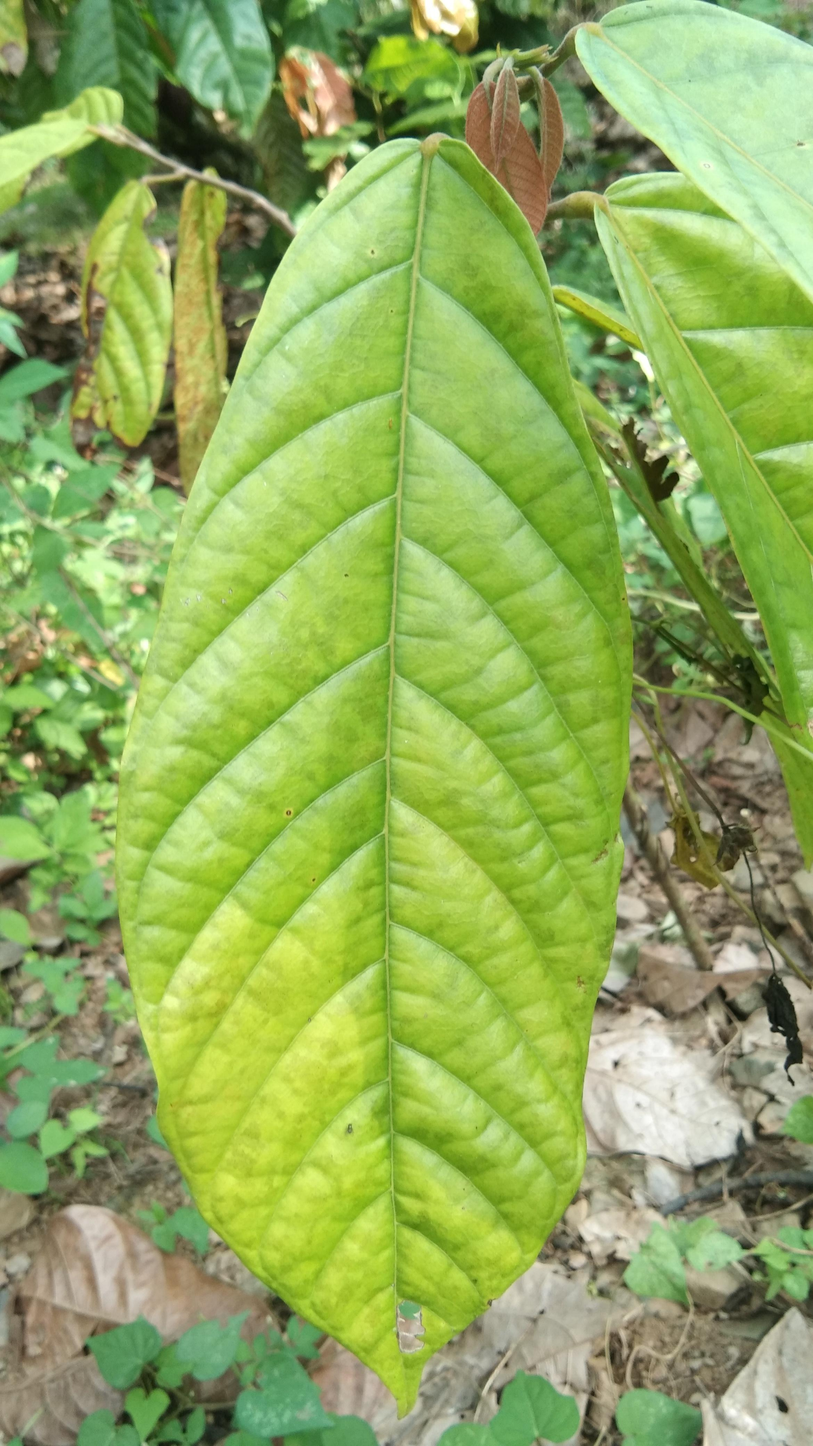deficiencia_potasio: (90, 118, 639, 1349)
